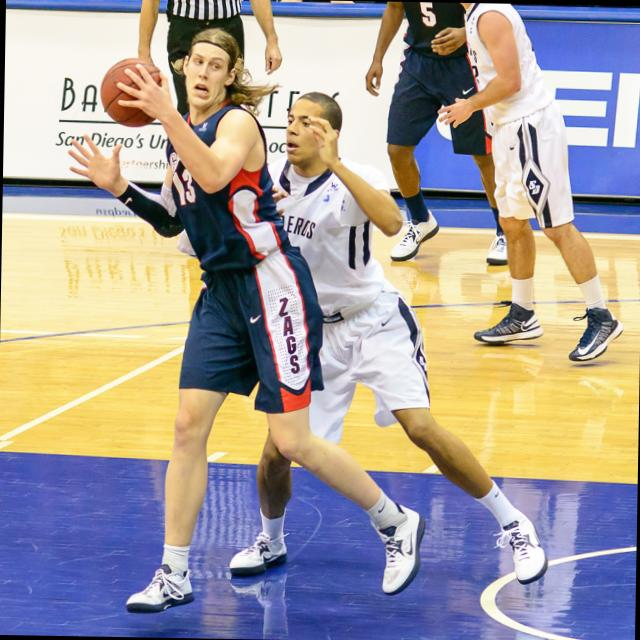Ball: (101, 61, 162, 128)
